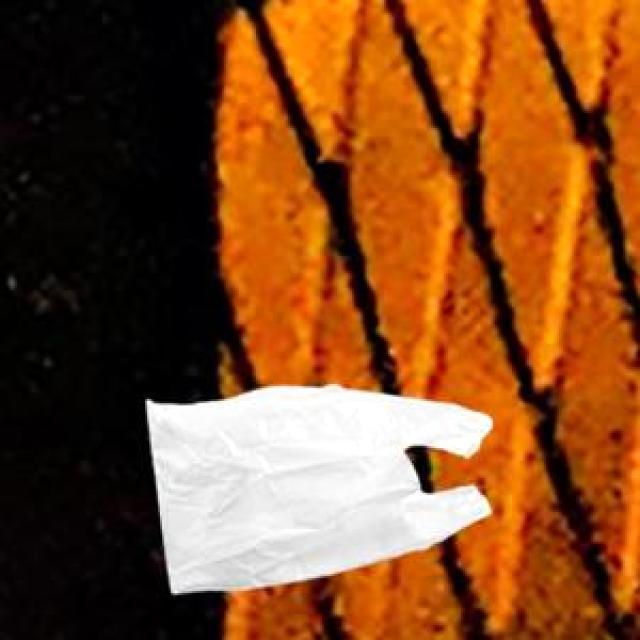Plastic_Bag: (144, 381, 490, 590)
